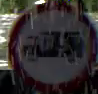Heavy Vehicles: (7, 3, 94, 92)
